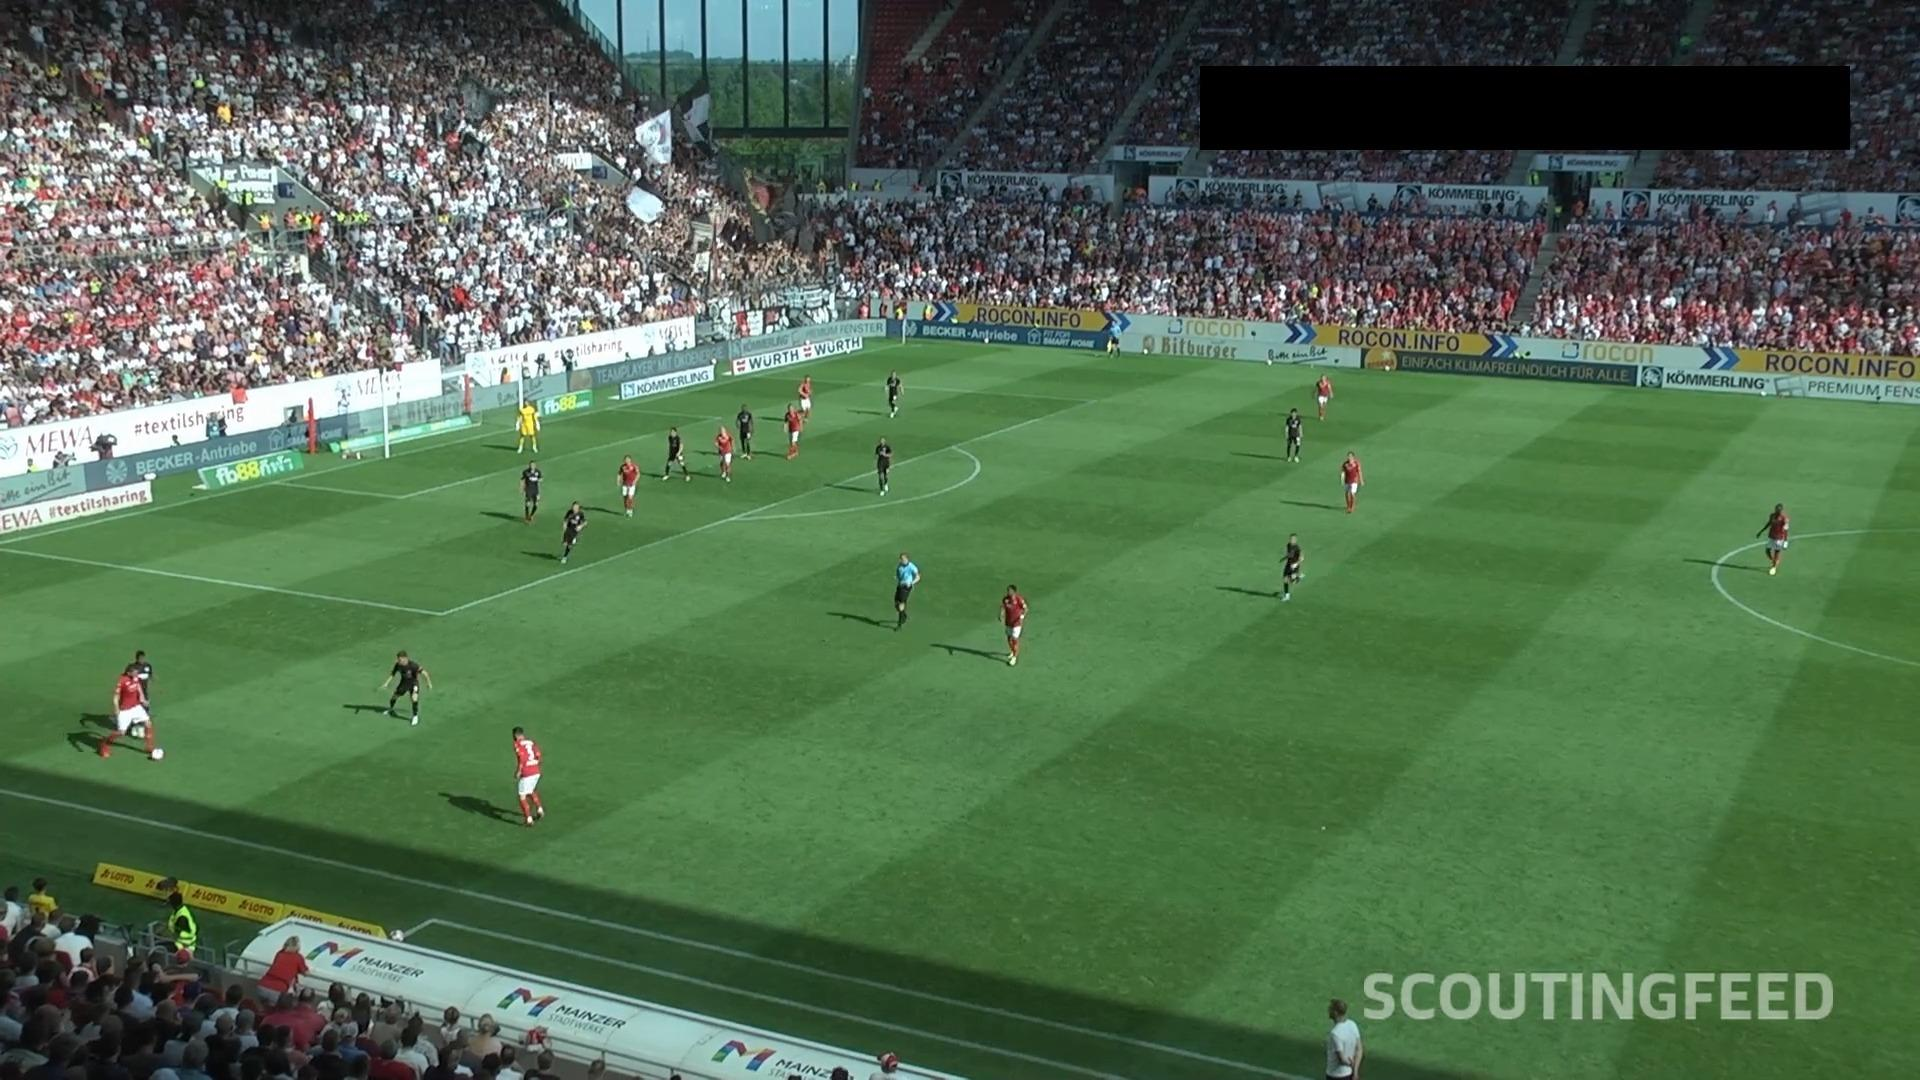ball: (150, 748, 165, 761)
